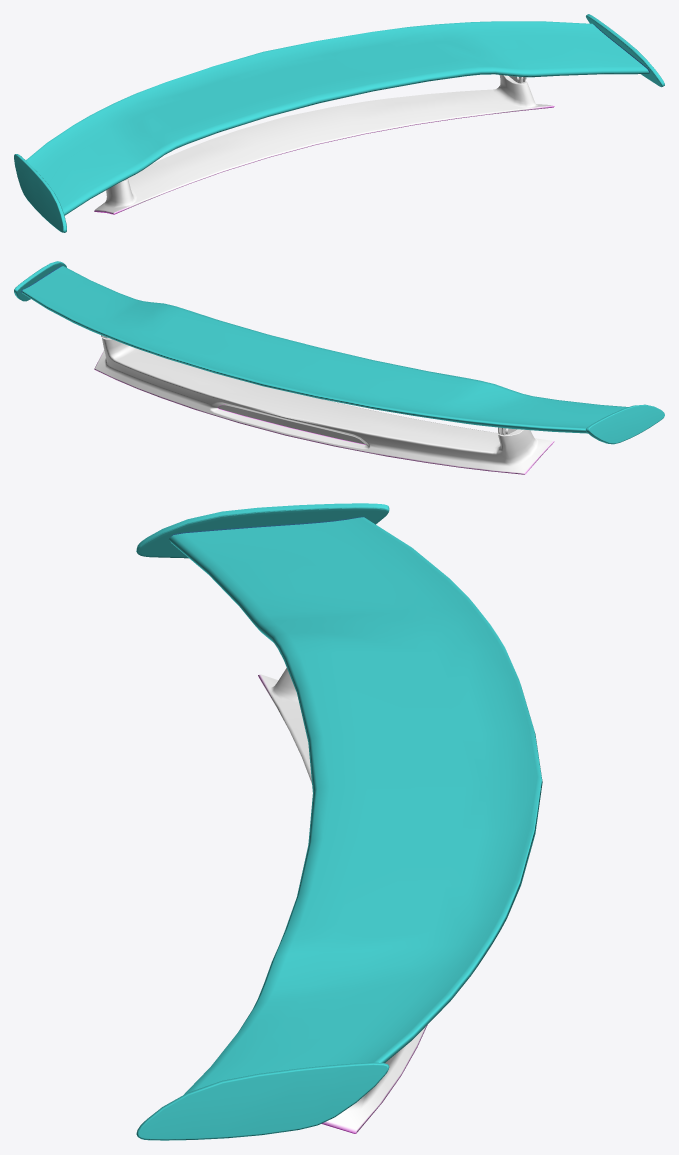
The model's file is Car_MercedesBenz_AMGGT_2015_Spoiler_SetGTR.fbx.
3 views of the same model, one above another, from view 1: azimuth 30°, elevation 25°; view 2: azimuth 150°, elevation 25°; view 3: azimuth 270°, elevation 25° (orthographic). The views are drawn at different scales.
Visible parts, largest first — view 1: Spoiler 6; view 2: Spoiler 6; view 3: Spoiler 6.
Part boxes in pixels (box(x1,y1,x2,y2)): Spoiler 6: box(14, 14, 664, 232); Spoiler 6: box(14, 261, 664, 474); Spoiler 6: box(136, 503, 542, 1140).
Bounding box in the file's own units: 1.46 × 0.1708 × 0.427.
